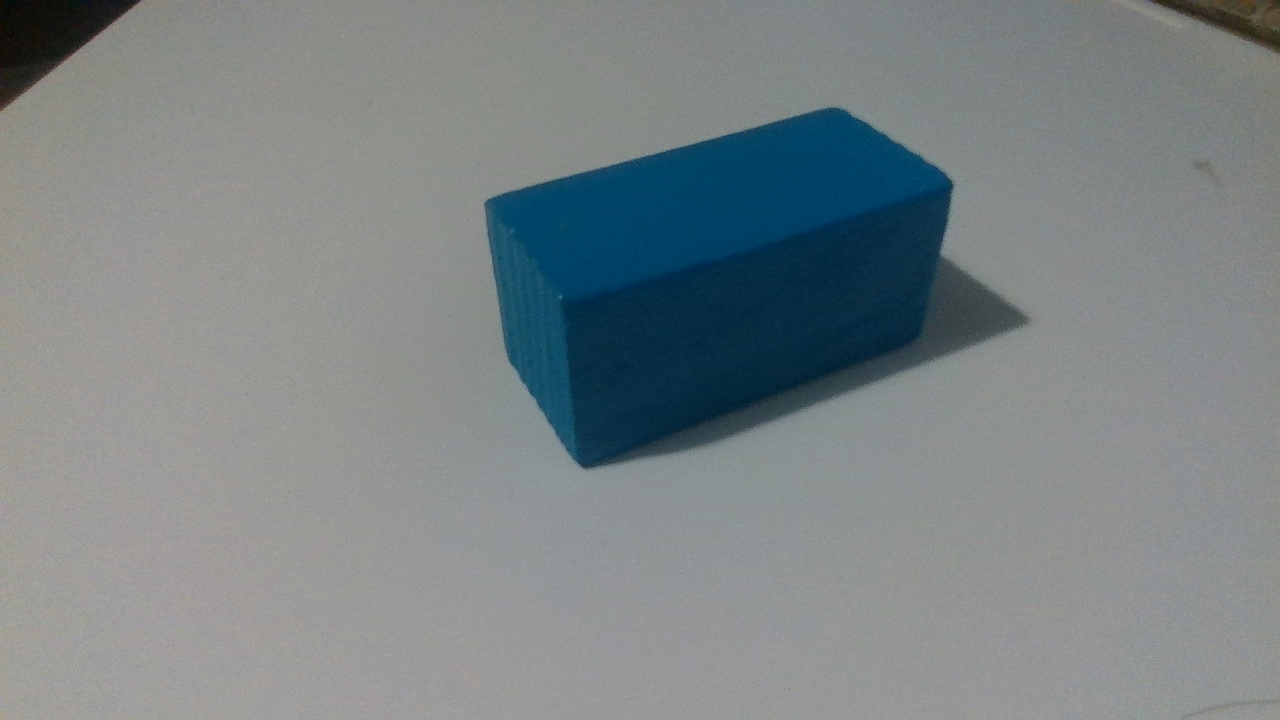cube: (499, 139, 695, 473)
